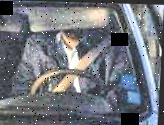seatbelt: (49, 28, 117, 96)
